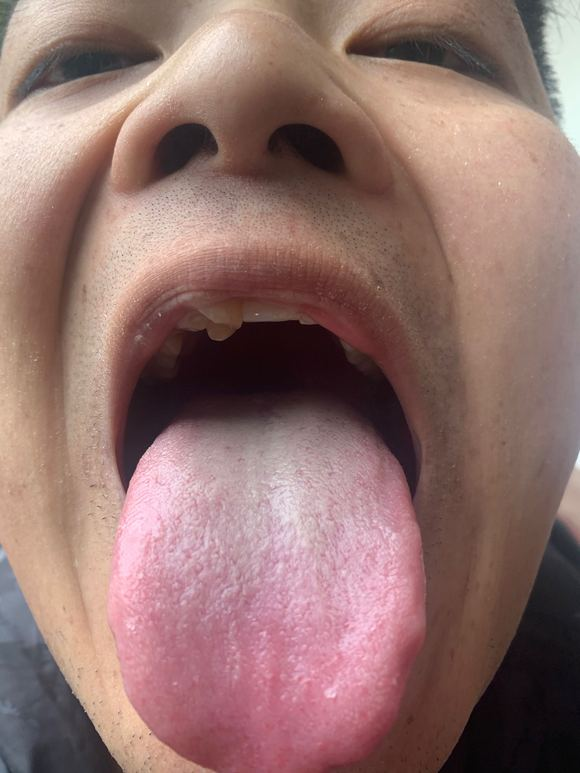hongshe: (106, 390, 425, 773)
huangtaishe: (107, 390, 426, 773)
